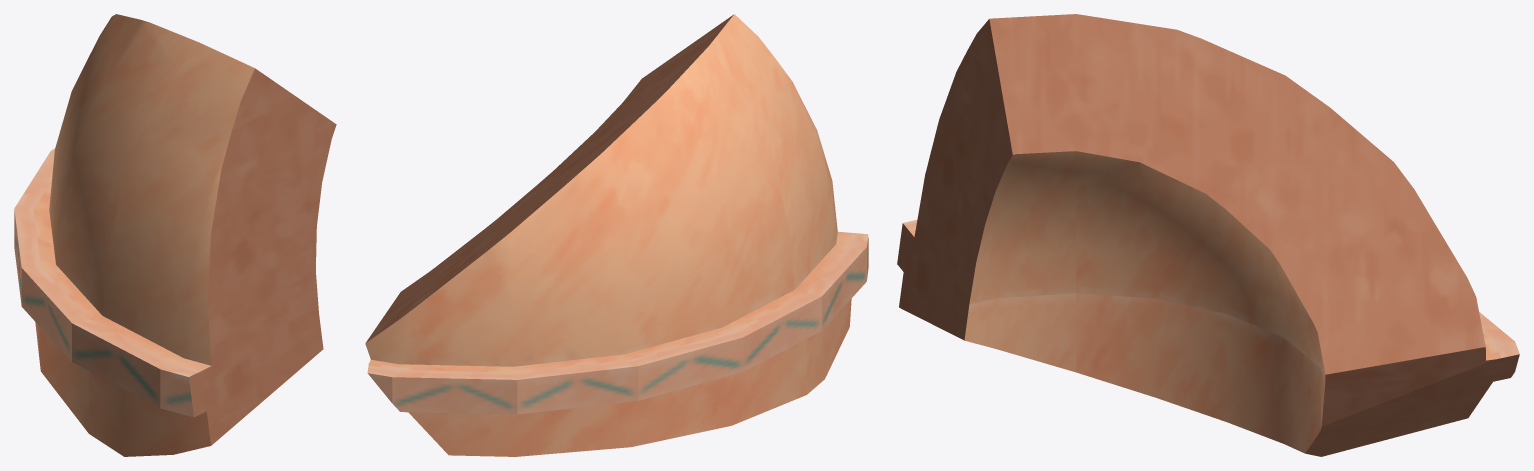
File: dome_s07.fbx
3 views of the same model, side by side, from view 1: azimuth 30°, elevation 25°; view 2: azimuth 150°, elevation 25°; view 3: azimuth 270°, elevation 25° (orthographic). The views are drawn at different scales.
Visible parts, largest first — view 1: dome_s07; view 2: dome_s07; view 3: dome_s07.
Boxes of the visible parts, x1,y1,x2,y2 form: dome_s07: (14, 14, 336, 456); dome_s07: (365, 14, 868, 456); dome_s07: (897, 14, 1519, 456).
Size of the model in its own units: 5.2 by 5.24 by 7.76.
